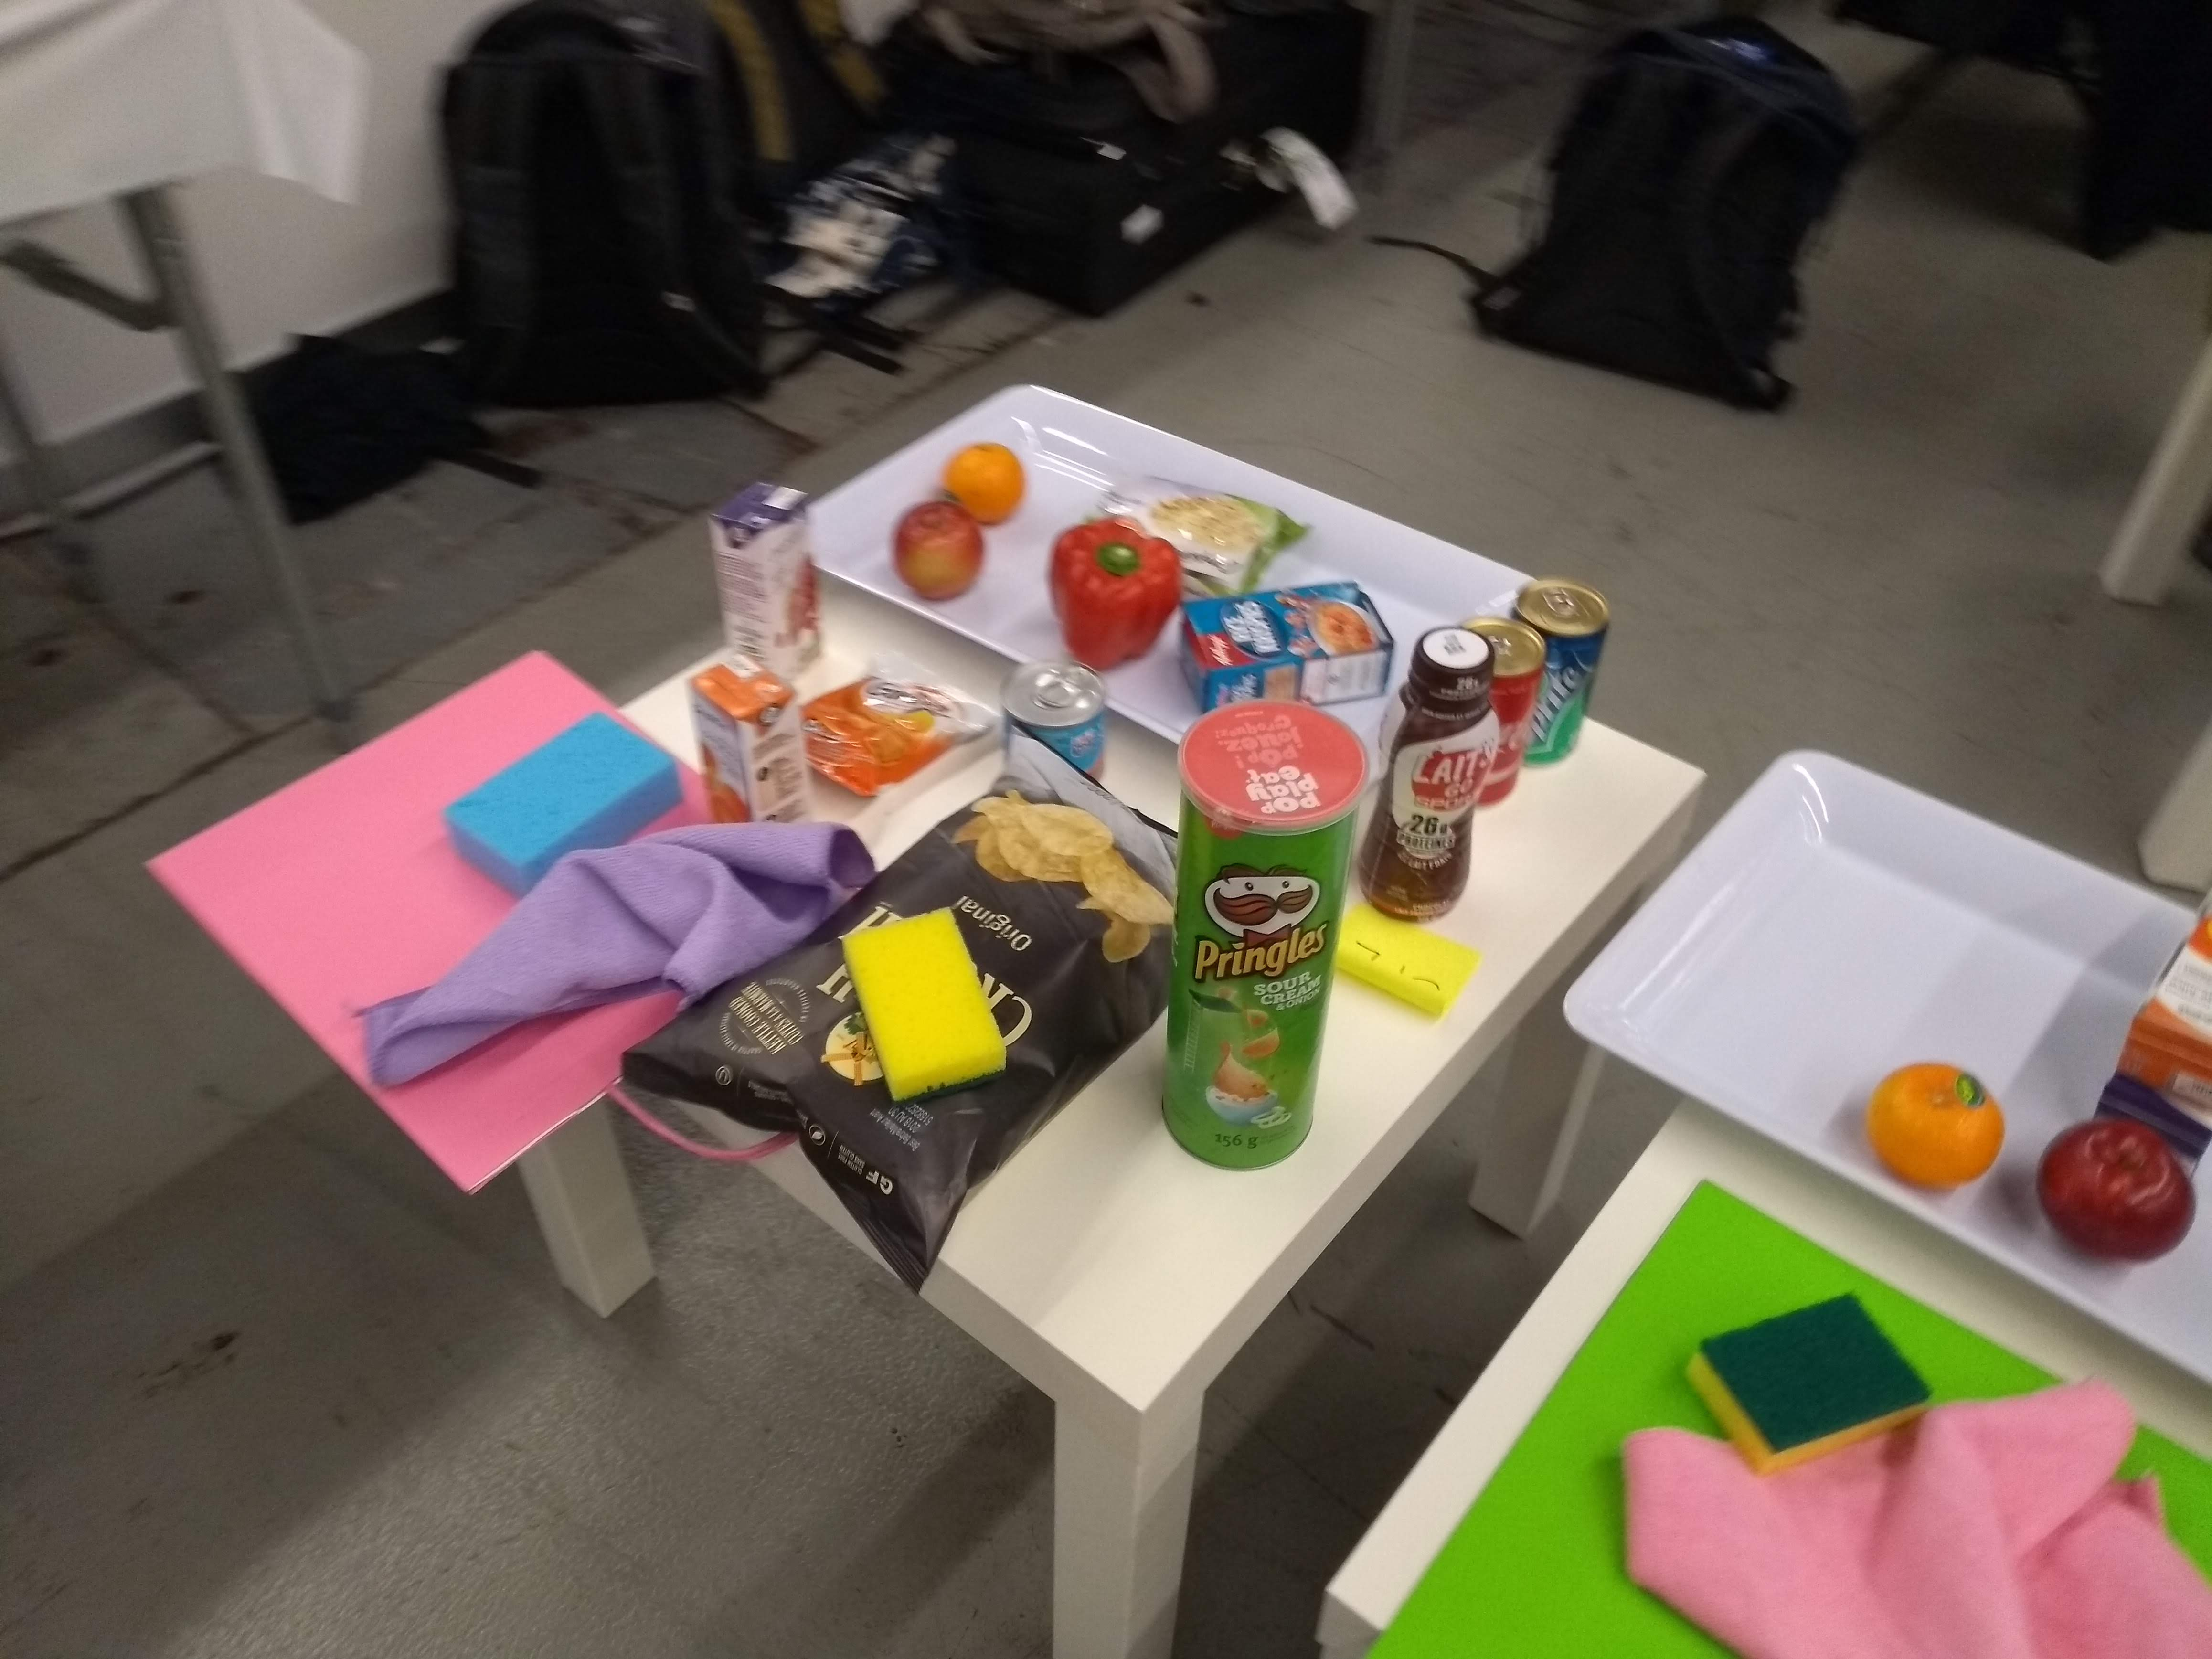apple: (2031, 1122, 2205, 1269), (885, 497, 988, 613)
cereal: (1174, 568, 1407, 714)
chocolate_drink: (1362, 619, 1503, 934)
grape_juice: (709, 472, 831, 687)
orange: (1865, 1054, 2006, 1202), (941, 437, 1036, 528)
orange_juice: (688, 655, 820, 836)
paprika: (1042, 512, 1195, 676)
potato_chips: (622, 716, 1224, 1303)
scrubby: (1667, 1284, 1937, 1481), (834, 910, 1014, 1107)
sponge_opl: (435, 702, 690, 910)
